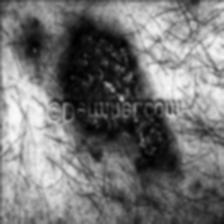Non-Cancerous Skin Condition: (57, 26, 140, 100), (132, 117, 168, 169), (26, 36, 40, 54)
